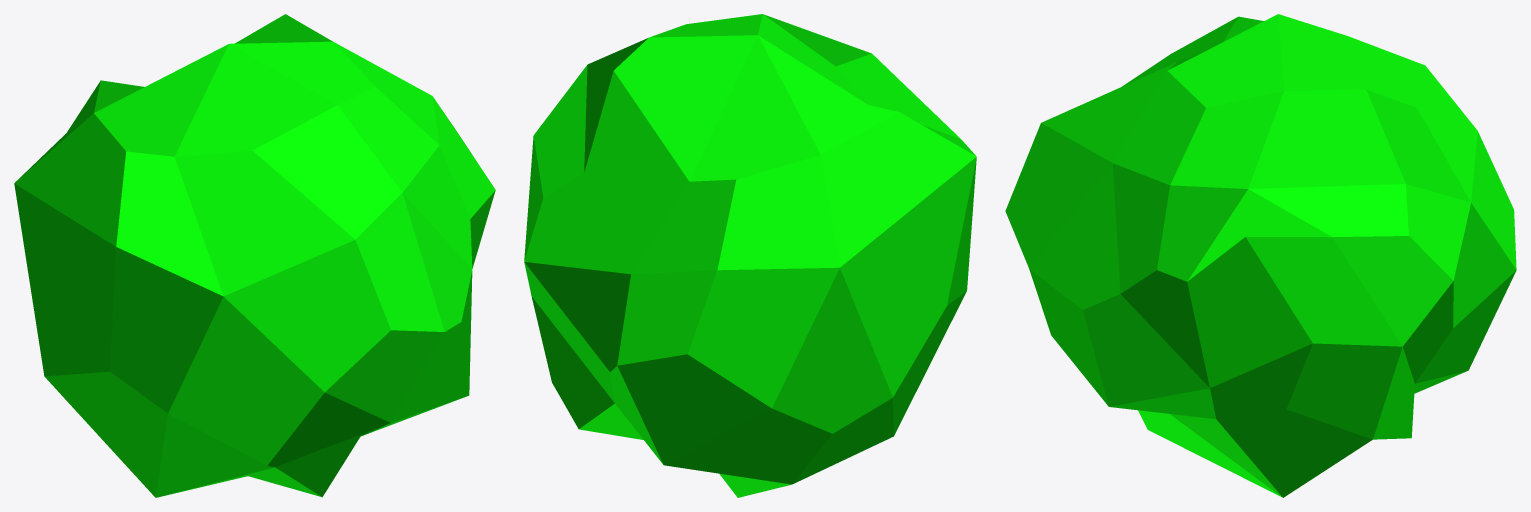
The model's file is SM_Bush_02.fbx.
The picture shows the model from 3 angles, left to right: view 1: azimuth 30°, elevation 25°; view 2: azimuth 150°, elevation 25°; view 3: azimuth 270°, elevation 25°; orthographic projection. The views are drawn at different scales.
Parts seen in each view (by area): view 1: Bush_02; view 2: Bush_02; view 3: Bush_02.
Boxes of the visible parts, x1,y1,x2,y2 form: Bush_02: (14, 14, 495, 497); Bush_02: (524, 14, 976, 497); Bush_02: (1005, 14, 1516, 497).
Size of the model in its own units: 726 by 803 by 846.
